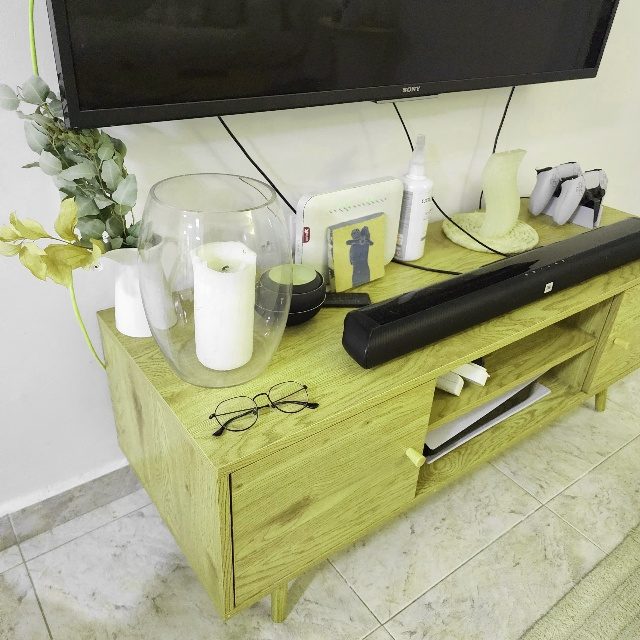glasses: (207, 380, 319, 436)
